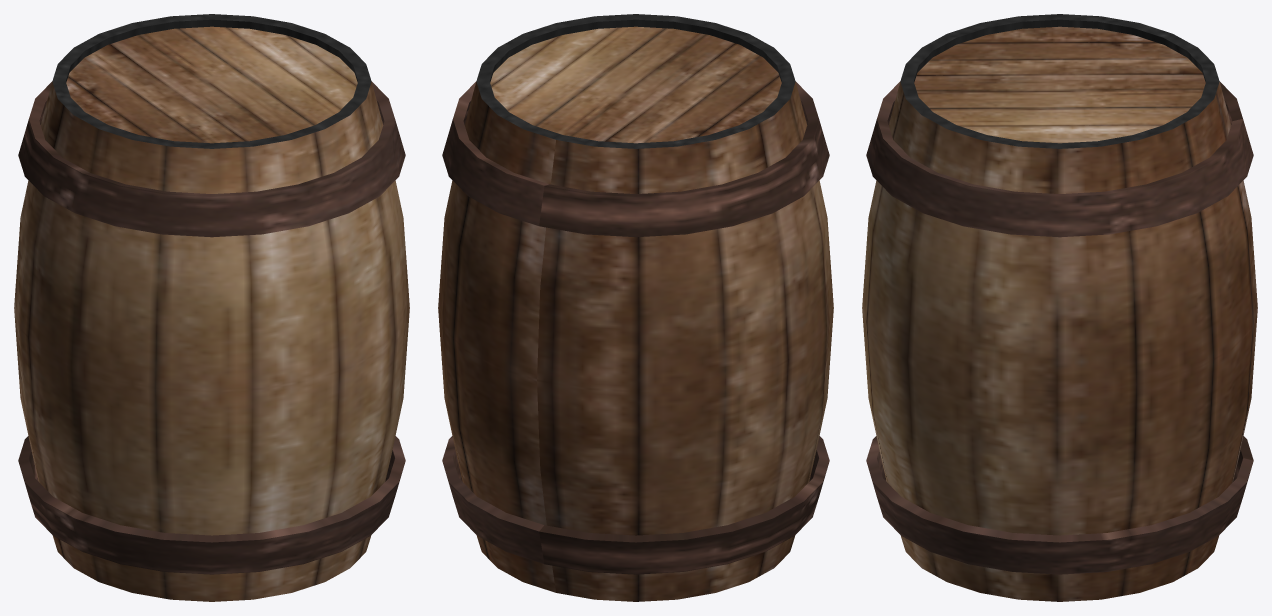
The model's file is barril_madera.fbx.
The picture shows the model from 3 angles, left to right: view 1: azimuth 30°, elevation 25°; view 2: azimuth 150°, elevation 25°; view 3: azimuth 270°, elevation 25°; orthographic projection.
Parts seen in each view (by area): view 1: barril madera; view 2: barril madera; view 3: barril madera.
Part boxes in pixels (x1,y1,x2,y2): barril madera: (14,14,409,601); barril madera: (438,14,833,601); barril madera: (862,14,1257,601).
Bounding box in the file's own units: 75.86 × 95.81 × 75.86.
